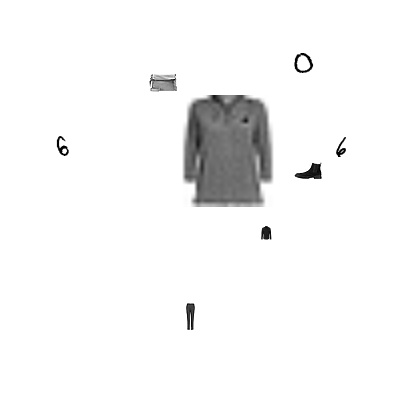0: (289, 49, 317, 77)
6: (326, 135, 354, 163), (47, 132, 75, 160)
Ankle_boot: (294, 156, 322, 184)
Bag: (149, 69, 177, 97)
Shirt: (172, 95, 284, 207), (259, 226, 273, 240)
Trouser: (176, 303, 204, 331)
